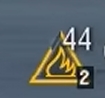2fire: (26, 51, 96, 90)
